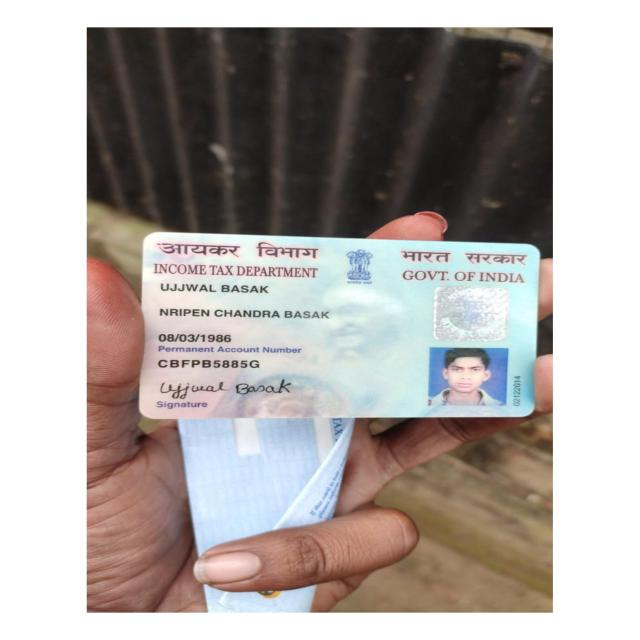pan_card: (146, 235, 539, 417)
